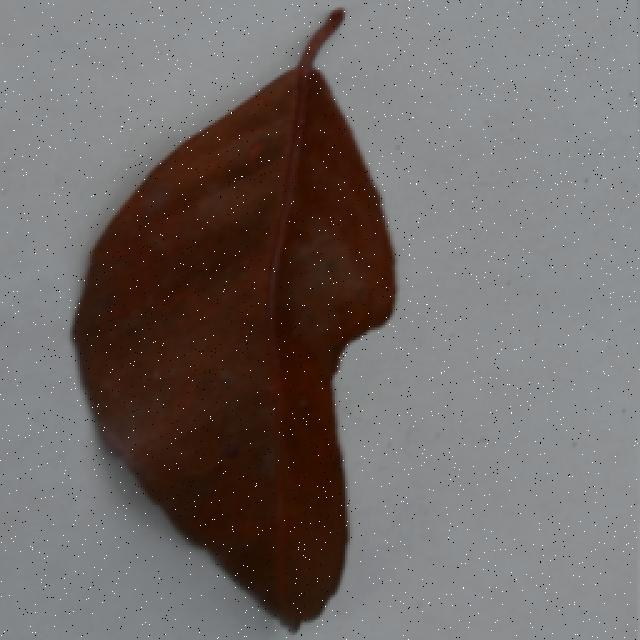blackspot: (66, 4, 475, 631)
